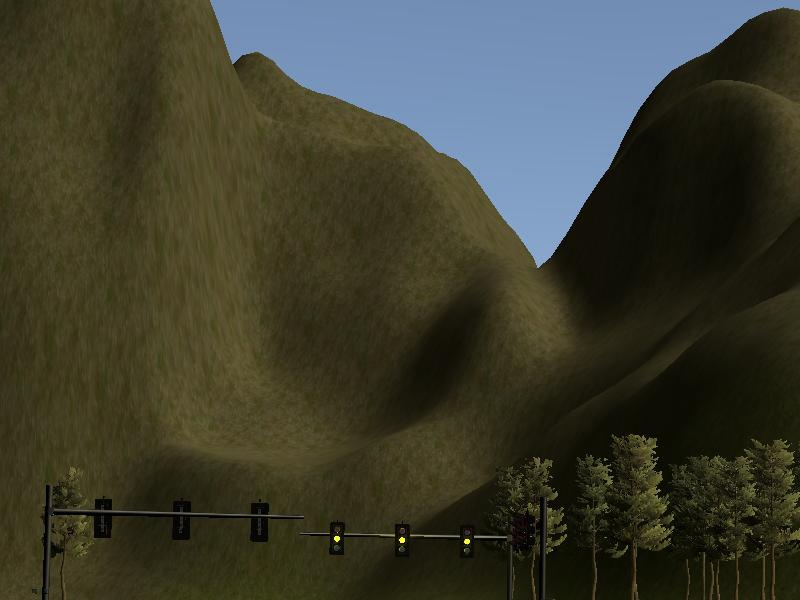Yellow: (393, 520, 412, 560), (458, 521, 476, 561), (328, 519, 346, 558)
